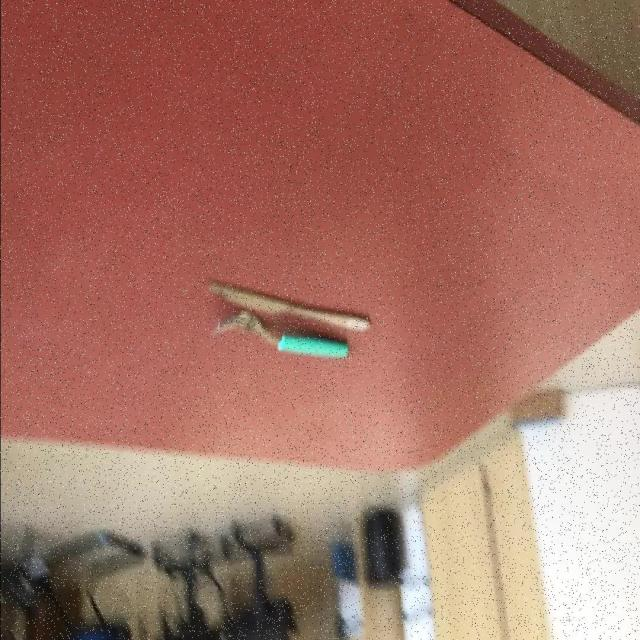Fork: (212, 308, 350, 358)
Knife: (208, 277, 373, 332)
